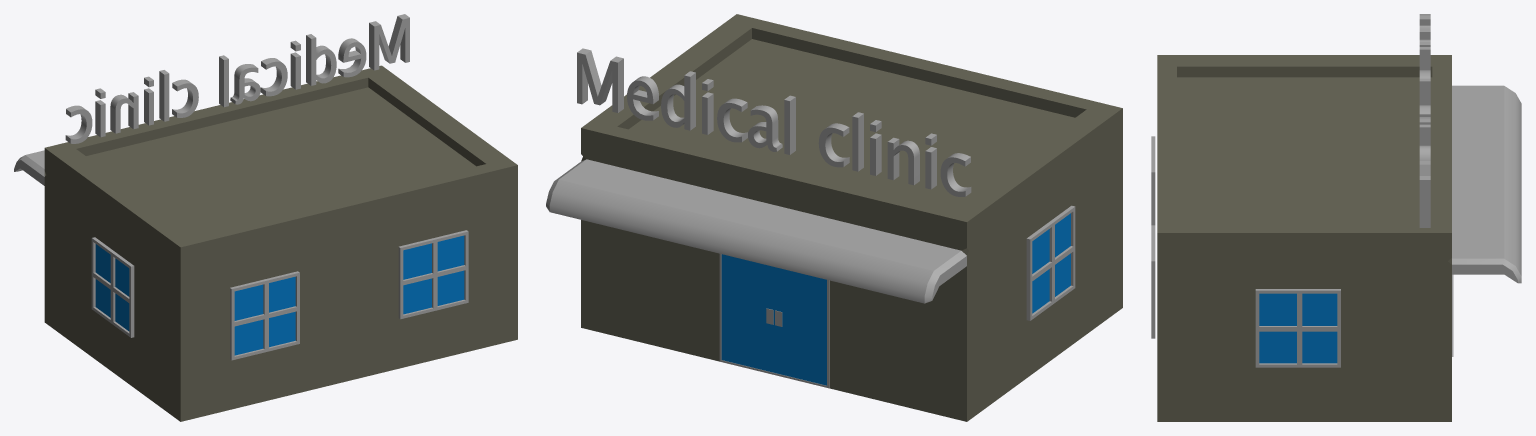
The model's file is health.fbx.
3 renders of one model, left to right at view 1: azimuth 30°, elevation 25°; view 2: azimuth 150°, elevation 25°; view 3: azimuth 270°, elevation 25°, orthographic. The views are drawn at different scales.
Parts seen in each view (by area): view 1: pCube1, typeMesh1, pCube4, pCube5, pCube6; view 2: pCube1, typeMesh1, pCube2, pCube6; view 3: pCube1, pCube3, typeMesh1, pCube4, pCube5.
Part boxes in pixels (x1=…): pCube1: x1=14, y1=65, x2=517, y2=421; typeMesh1: x1=65, y1=14, x2=409, y2=143; pCube4: x1=398, y1=230, x2=468, y2=319; pCube5: x1=230, y1=271, x2=299, y2=360; pCube6: x1=91, y1=237, x2=134, y2=337; pCube1: x1=546, y1=14, x2=1122, y2=421; typeMesh1: x1=577, y1=48, x2=971, y2=196; pCube2: x1=719, y1=254, x2=829, y2=388; pCube6: x1=1026, y1=205, x2=1075, y2=320; pCube1: x1=1157, y1=55, x2=1521, y2=421; pCube3: x1=1255, y1=289, x2=1340, y2=367; typeMesh1: x1=1419, y1=14, x2=1430, y2=227; pCube4: x1=1151, y1=225, x2=1155, y2=338; pCube5: x1=1151, y1=136, x2=1155, y2=225.
Size of the model in its own units: 10 by 6.27 by 8.35.
